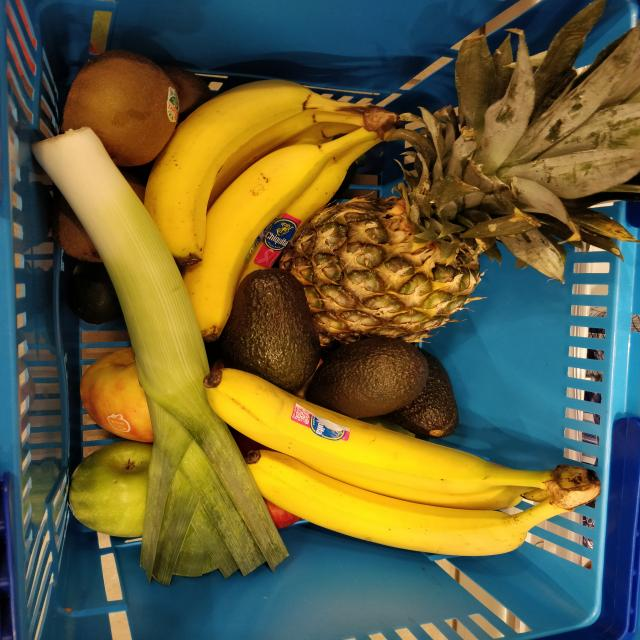Avocado: (305, 337, 459, 439), (219, 269, 324, 398)
Banana: (207, 368, 600, 557), (143, 80, 400, 348)
Kiwi: (60, 52, 181, 167)
Leek: (32, 128, 289, 585)
Pineapple: (282, 0, 640, 349)
